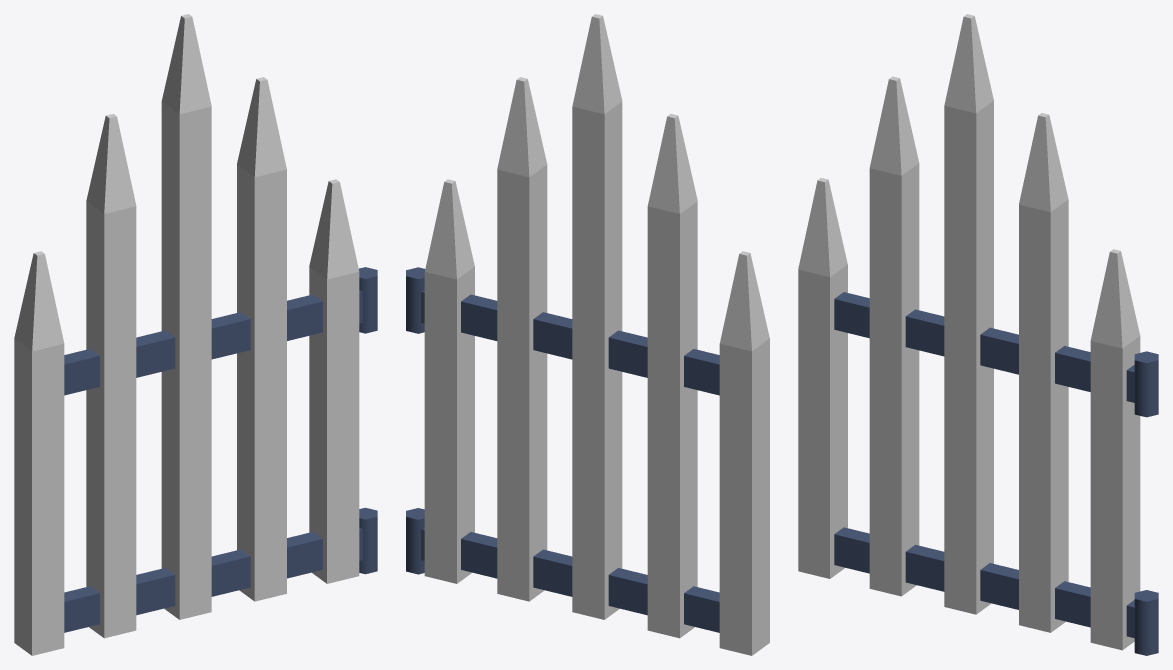
Rendered from WhtFence_4.FBX.
The picture shows the model from 3 angles, left to right: view 1: azimuth 30°, elevation 25°; view 2: azimuth 150°, elevation 25°; view 3: azimuth 330°, elevation 25°; orthographic projection.
Parts seen in each view (by area): view 1: WhiteFence_4; view 2: WhiteFence_4; view 3: WhiteFence_4.
Part boxes in pixels (bbox=[...]): WhiteFence_4: bbox=[14, 14, 377, 655]; WhiteFence_4: bbox=[406, 14, 769, 655]; WhiteFence_4: bbox=[798, 14, 1158, 655].
Size of the model in its own units: 15.04 by 24.14 by 1.31.
